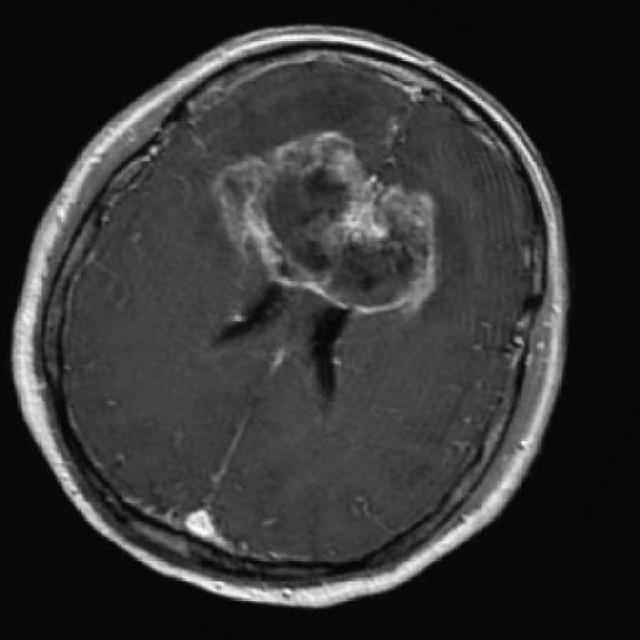Brain-Tumor: (208, 105, 469, 334)
